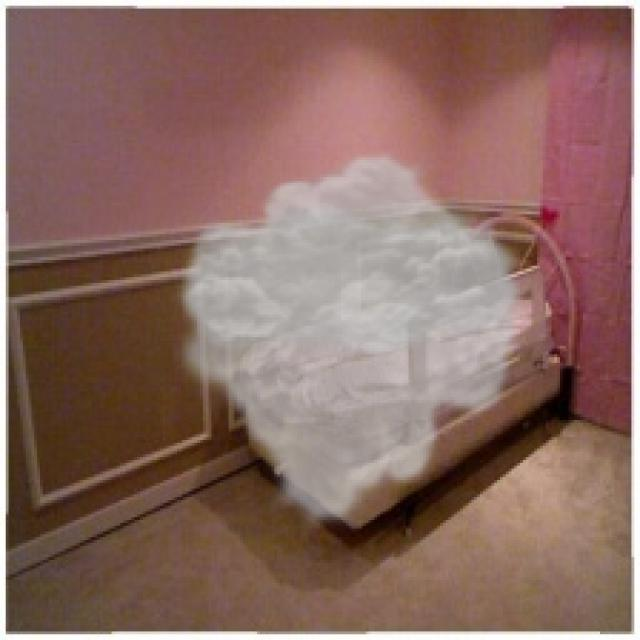smoke: (168, 148, 532, 532)
